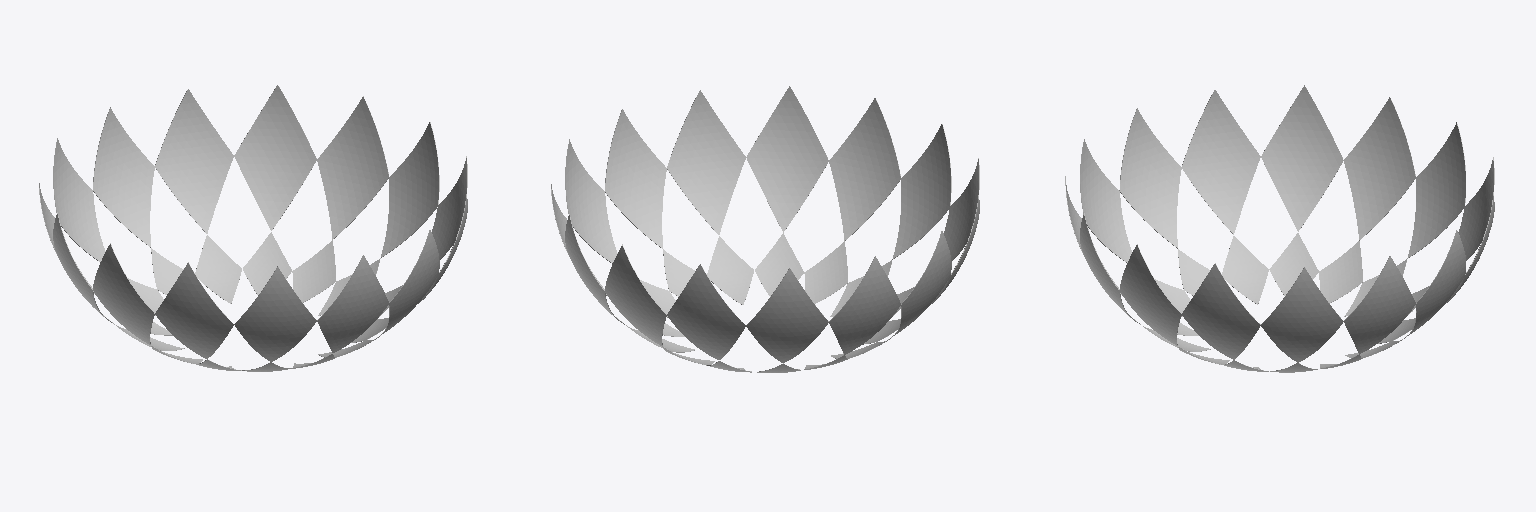
File: dysonLayer3.obj
3 renders of one model, left to right at view 1: azimuth 30°, elevation 25°; view 2: azimuth 150°, elevation 25°; view 3: azimuth 270°, elevation 25°, orthographic.
Visible parts, largest first — view 1: panel.002_Icosphere.009; view 2: panel.002_Icosphere.009; view 3: panel.002_Icosphere.009.
Boxes of the visible parts, box(x1,y1,x2,y2) form: panel.002_Icosphere.009: box(39, 85, 467, 371); panel.002_Icosphere.009: box(551, 86, 979, 372); panel.002_Icosphere.009: box(1065, 85, 1494, 372).
Bounding box in the file's own units: 1.06 × 0.4357 × 1.06.